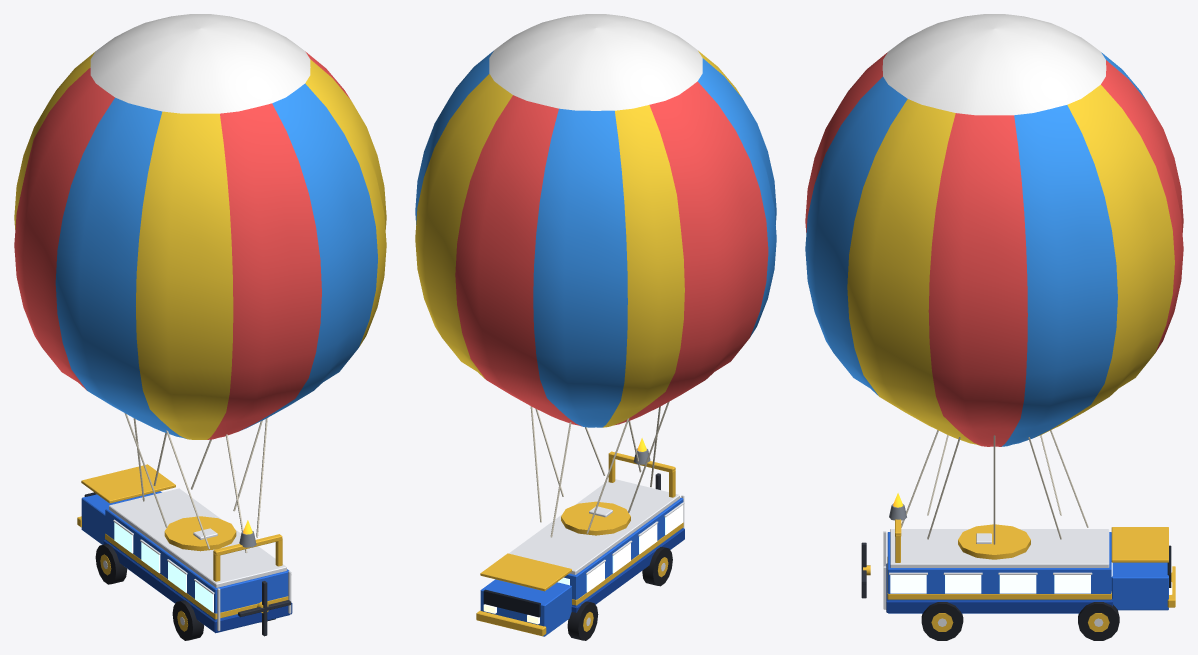
File: bus.glb
The picture shows the model from 3 angles, left to right: view 1: azimuth 30°, elevation 25°; view 2: azimuth 150°, elevation 25°; view 3: azimuth 270°, elevation 25°; orthographic projection. The views are drawn at different scales.
Parts seen in each view (by area): view 1: balloon_mesh, bus_body_f6f9ff, bus_body_2f78f0, bus_body_ffc83a, bus_body_1d4fb0, balloon_rig_f1ead6, balloon_rig_ffc83a, bus_body_22252c, bus_body_9fe4ff, bus_prop; view 2: balloon_mesh, bus_body_f6f9ff, bus_body_ffc83a, bus_body_2f78f0, balloon_rig_f1ead6, balloon_rig_ffc83a, bus_body_22252c, bus_body_9fe4ff, bus_body_1d4fb0, bus_body_1d2430; view 3: balloon_mesh, bus_body_f6f9ff, bus_body_2f78f0, bus_body_ffc83a, bus_body_9fe4ff, bus_body_1d4fb0, bus_body_22252c, balloon_rig_ffc83a, balloon_rig_f1ead6.
Boxes of the visible parts, box(x1,y1,x2,y2) form: balloon_mesh: box(14, 14, 386, 439); bus_body_f6f9ff: box(103, 488, 291, 630); bus_body_2f78f0: box(81, 491, 289, 633); bus_body_ffc83a: box(77, 464, 288, 631); bus_body_1d4fb0: box(103, 540, 292, 632); balloon_rig_f1ead6: box(124, 413, 267, 552); balloon_rig_ffc83a: box(164, 516, 236, 551); bus_body_22252c: box(95, 544, 275, 640); bus_body_9fe4ff: box(114, 522, 213, 612); bus_prop: box(238, 581, 291, 636); balloon_mesh: box(415, 14, 776, 427); bus_body_f6f9ff: box(509, 479, 684, 625); bus_body_ffc83a: box(476, 451, 683, 636); bus_body_2f78f0: box(480, 497, 683, 636); balloon_rig_f1ead6: box(530, 401, 669, 537); balloon_rig_ffc83a: box(561, 501, 630, 535); bus_body_22252c: box(567, 547, 672, 640); bus_body_9fe4ff: box(557, 505, 683, 592); bus_body_1d4fb0: box(571, 528, 684, 612); bus_body_1d2430: box(483, 589, 540, 617); balloon_mesh: box(805, 14, 1183, 446); bus_body_f6f9ff: box(883, 529, 1109, 626); bus_body_2f78f0: box(887, 532, 1168, 613); bus_body_ffc83a: box(887, 519, 1175, 631); bus_body_9fe4ff: box(890, 562, 1112, 593); bus_body_1d4fb0: box(886, 563, 1112, 612); bus_body_22252c: box(921, 602, 1119, 640); balloon_rig_ffc83a: box(958, 524, 1030, 559); balloon_rig_f1ead6: box(901, 430, 1088, 544).
Bounding box in the file's own units: 14.52 × 25.01 × 14.52.
